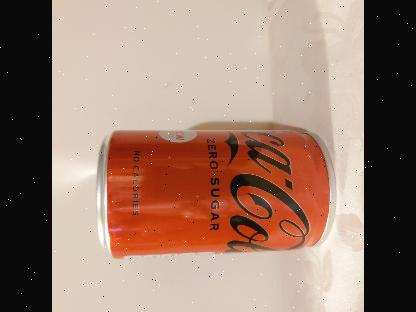Can: (96, 126, 336, 260)
